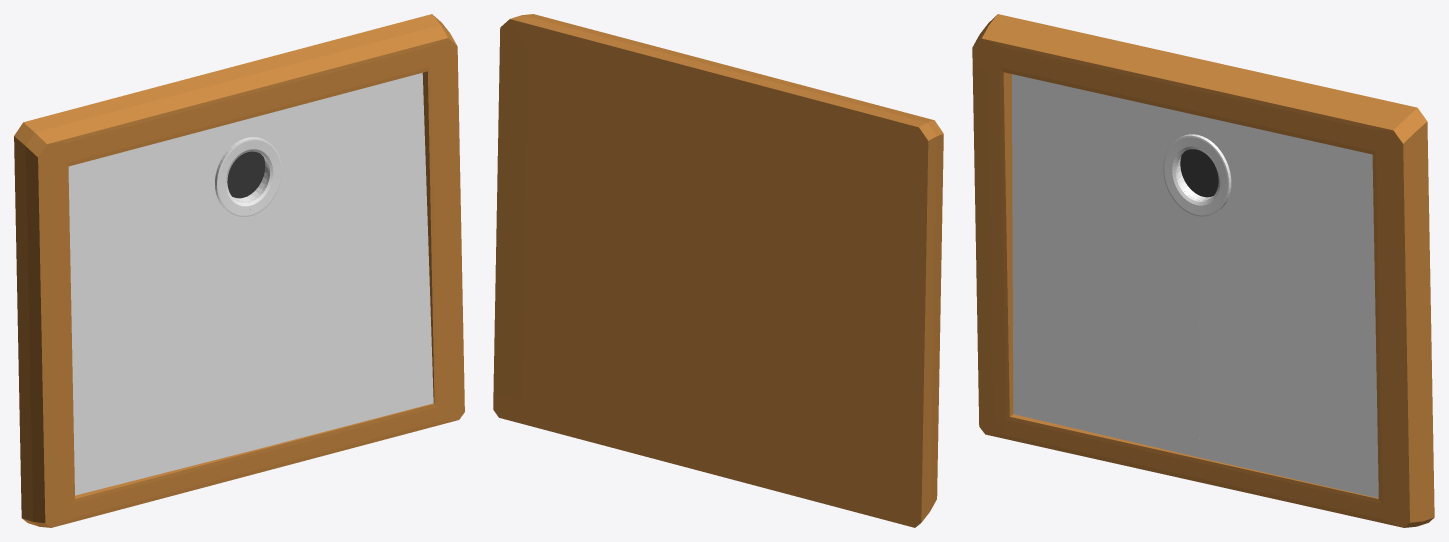
Rendered from V1CDoor_temp.fbx.
3 views of the same model, side by side, from view 1: azimuth 30°, elevation 25°; view 2: azimuth 150°, elevation 25°; view 3: azimuth 330°, elevation 25° (orthographic). The views are drawn at different scales.
Visible parts, largest first — view 1: V1C_DoorFlat_temp; view 2: V1C_DoorFlat_temp; view 3: V1C_DoorFlat_temp.
Part boxes in pixels (x1,y1,x2,y2): V1C_DoorFlat_temp: [14, 14, 464, 527]; V1C_DoorFlat_temp: [493, 14, 943, 527]; V1C_DoorFlat_temp: [972, 14, 1434, 527].
Size of the model in its own units: 6.91 by 6.22 by 0.5567.
